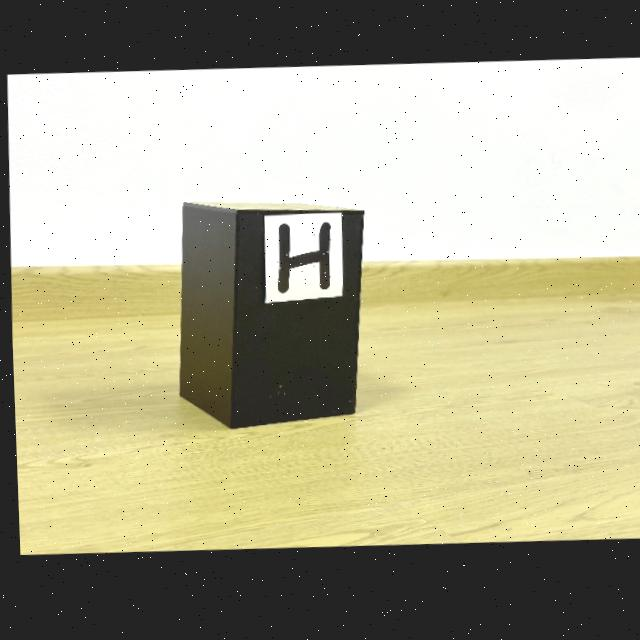H: (275, 225, 328, 296)
